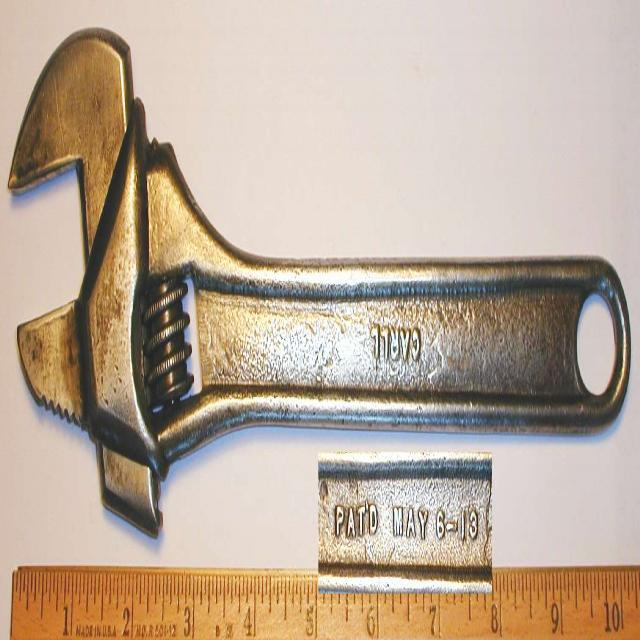wrench: (5, 14, 634, 530)
